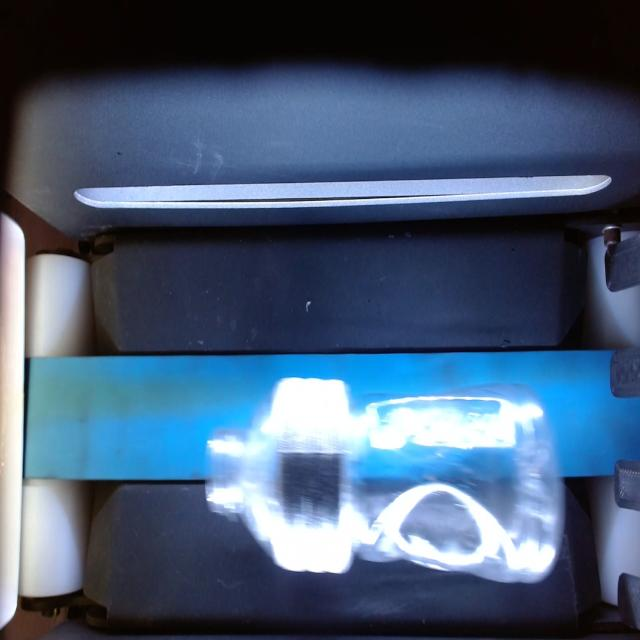bottom: (357, 376, 566, 589)
label: (266, 365, 356, 578)
neck: (204, 404, 271, 542)
